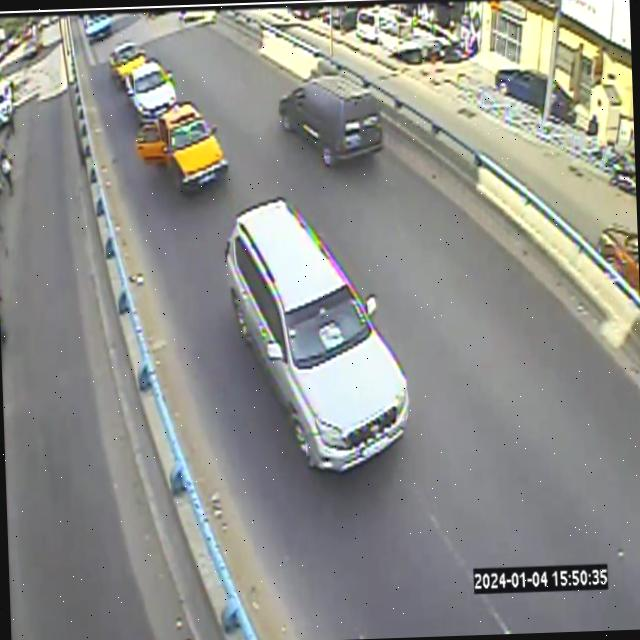car: (225, 197, 409, 472), (278, 75, 382, 165), (135, 102, 228, 190), (126, 60, 176, 121), (109, 40, 145, 84), (83, 13, 111, 43)
